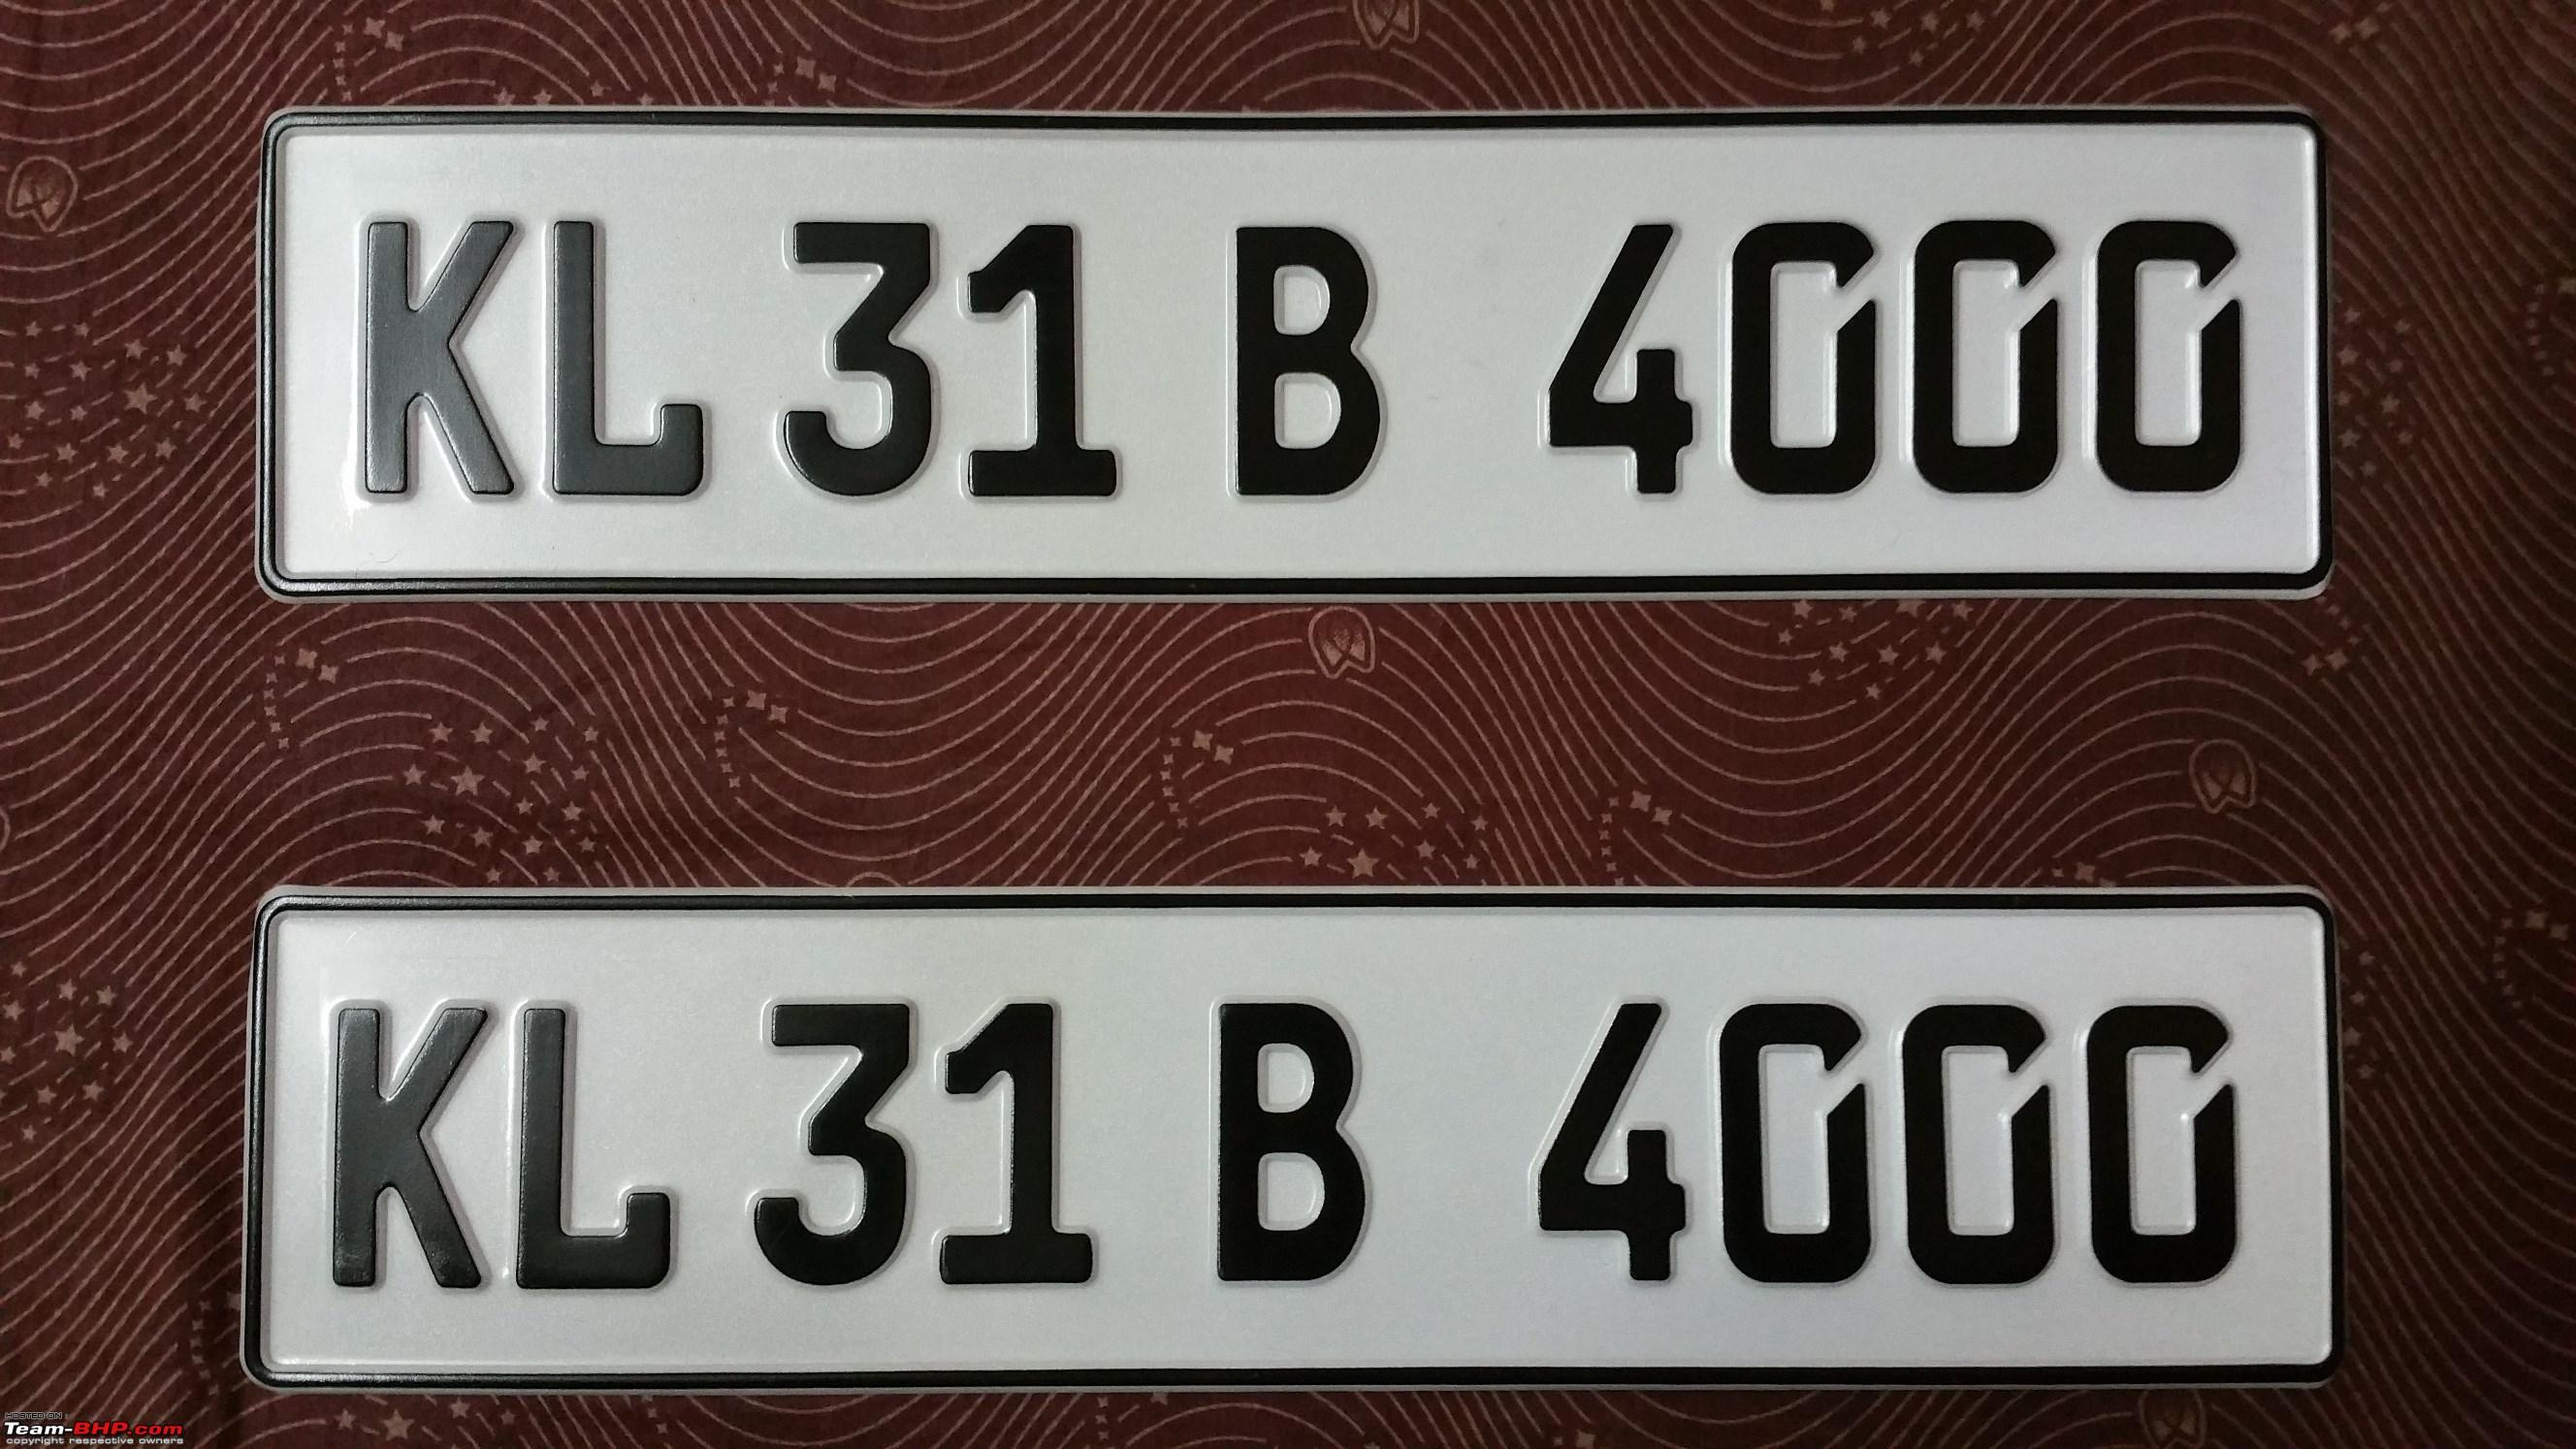plate: (287, 119, 2349, 596)
